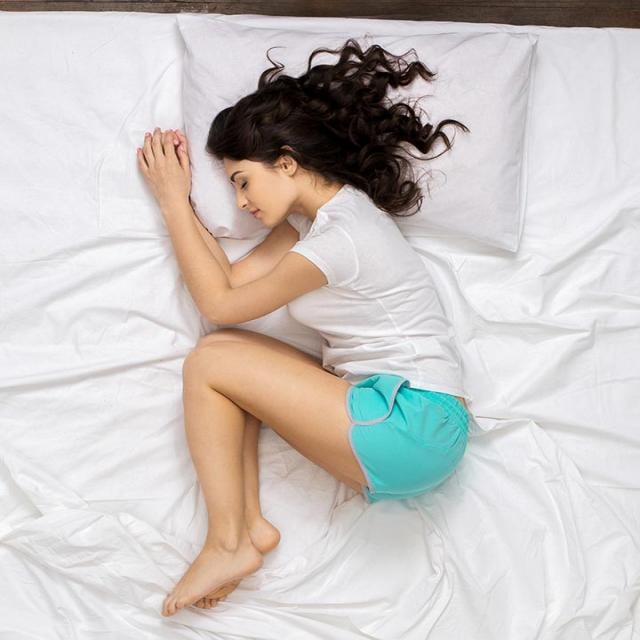people: (116, 16, 483, 627)
